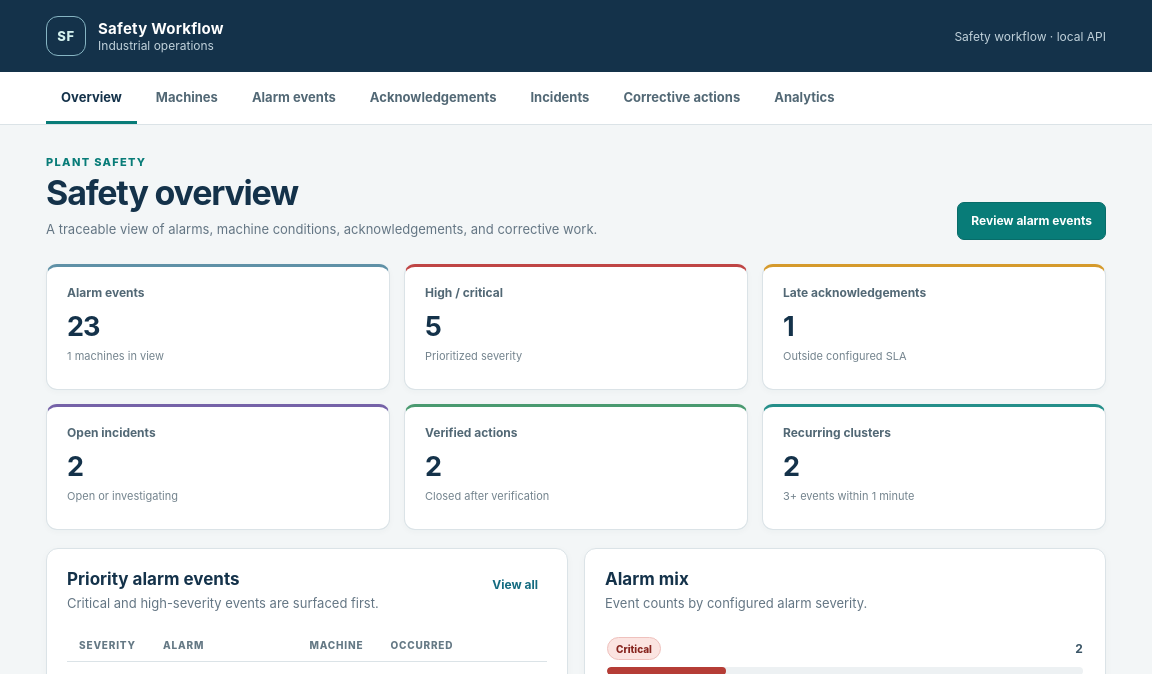
Scenario: safety workflow UI › surfaces SLA, verification, cluster, and traceability metrics
The image size is (1152, 674).
Step 1. Click the button "Analytics" → point(804, 98), box [759, 72, 850, 124]
(page scrolled)
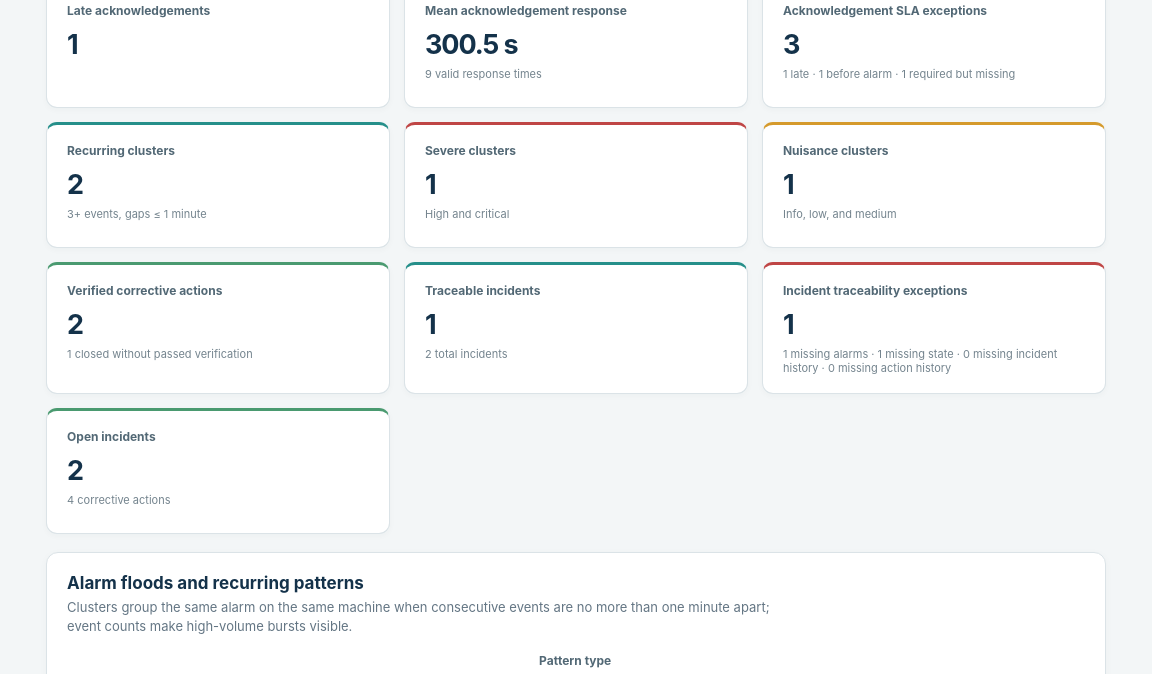
Check: the text "300.5 s" is shown, box [425, 28, 518, 60]
Check: the text "Acknowledgement SLA exceptions" is shown, box [783, 2, 987, 18]
Check: the text "Verified corrective actions" is shown, box [67, 282, 222, 298]
